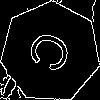C: (25, 27, 82, 81)
